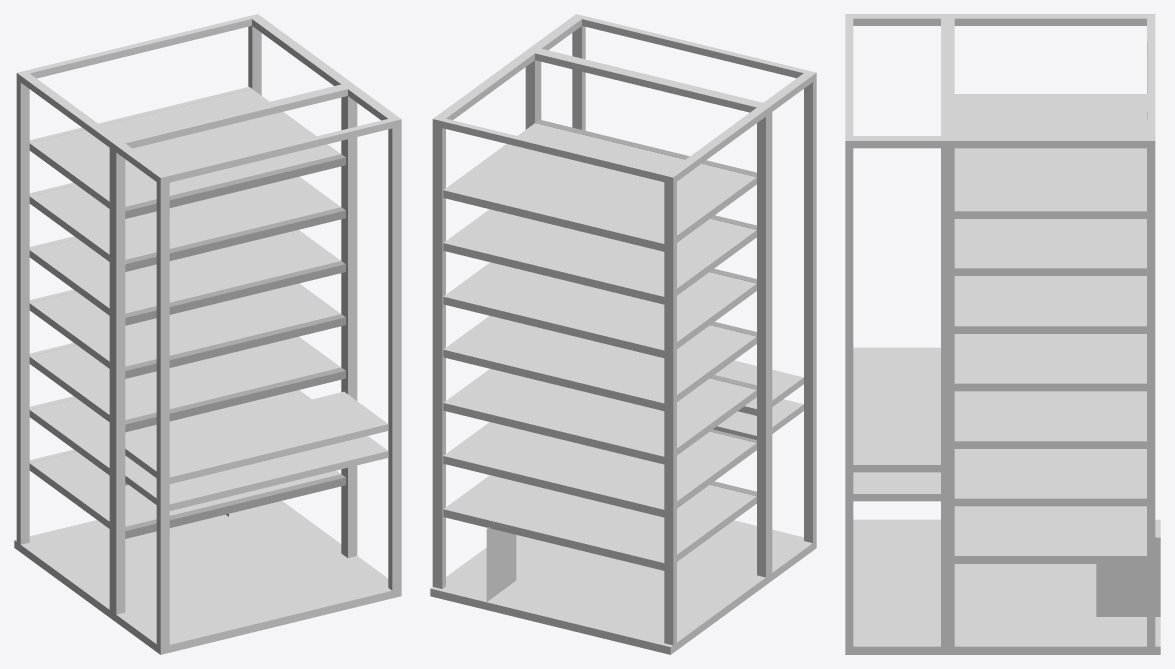
Rendered from Frame.glb.
3 views of the same model, side by side, from view 1: azimuth 30°, elevation 25°; view 2: azimuth 150°, elevation 25°; view 3: azimuth 270°, elevation 25° (orthographic). The views are drawn at different scales.
Visible parts, largest first — view 1: Frame; view 2: Frame; view 3: Frame.
Part boxes in pixels (left/top/right/bottom): Frame: left=14, top=14, right=401, bottom=654; Frame: left=430, top=14, right=816, bottom=654; Frame: left=845, top=14, right=1160, bottom=654.
Size of the model in its own units: 1.21 by 2.28 by 1.27.
Materials: 1 (1 with a texture image).
